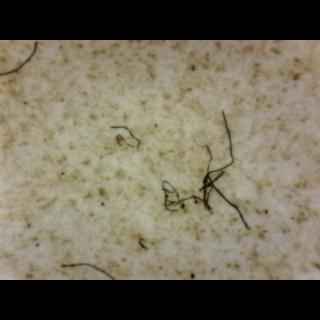Microplastic: (54, 246, 126, 280), (1, 43, 55, 81), (106, 114, 148, 154)
